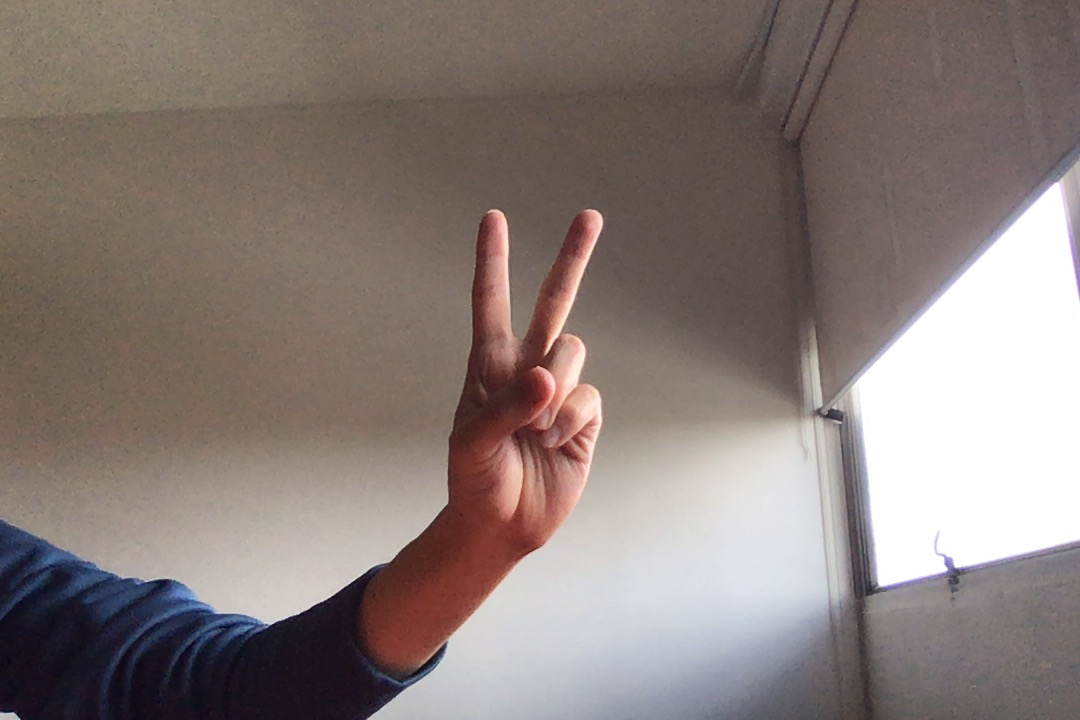peacesign: (432, 197, 623, 560)
